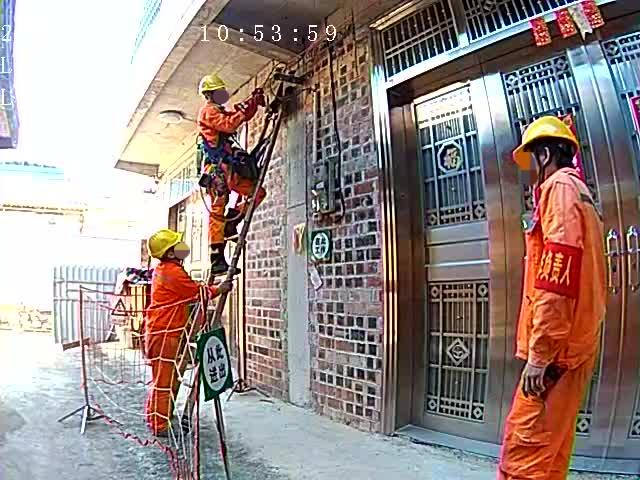halt: (522, 118, 583, 178), (149, 230, 188, 267), (200, 76, 228, 106)
inear: (533, 145, 561, 179)
